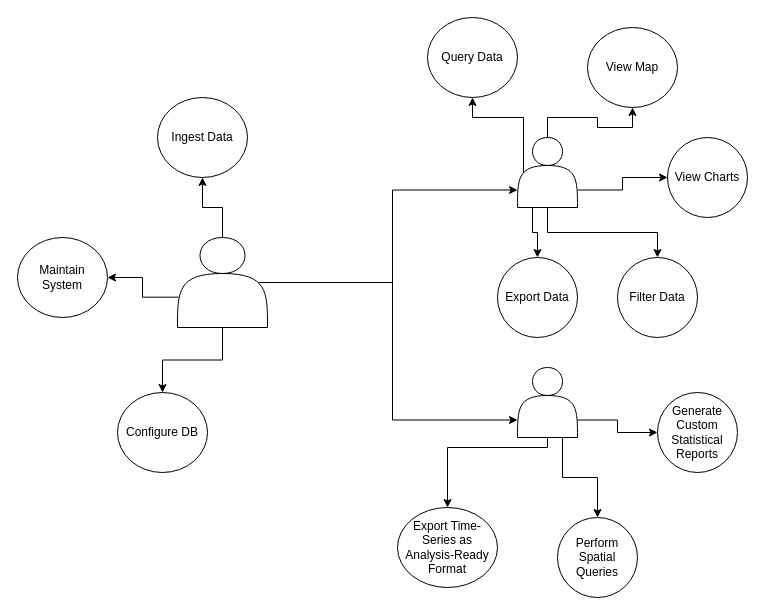
The diagram is 765 pixels wide and 615 high, and some of its shapes have lost their labels. Here are the shapes that lost their labels. From the top down, the box of each, then its label:
(516, 136, 578, 208): Public User
(176, 236, 268, 328): Developer
(516, 366, 578, 438): Analyst
